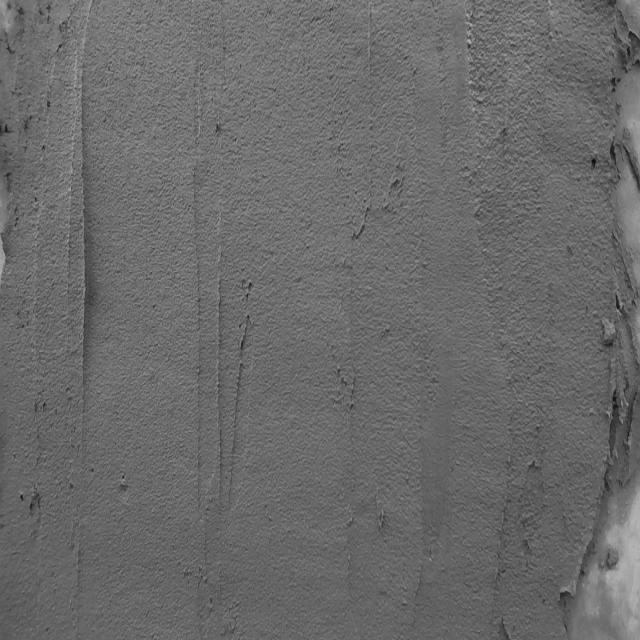trowels marks: (187, 199, 246, 524), (70, 46, 97, 514)
